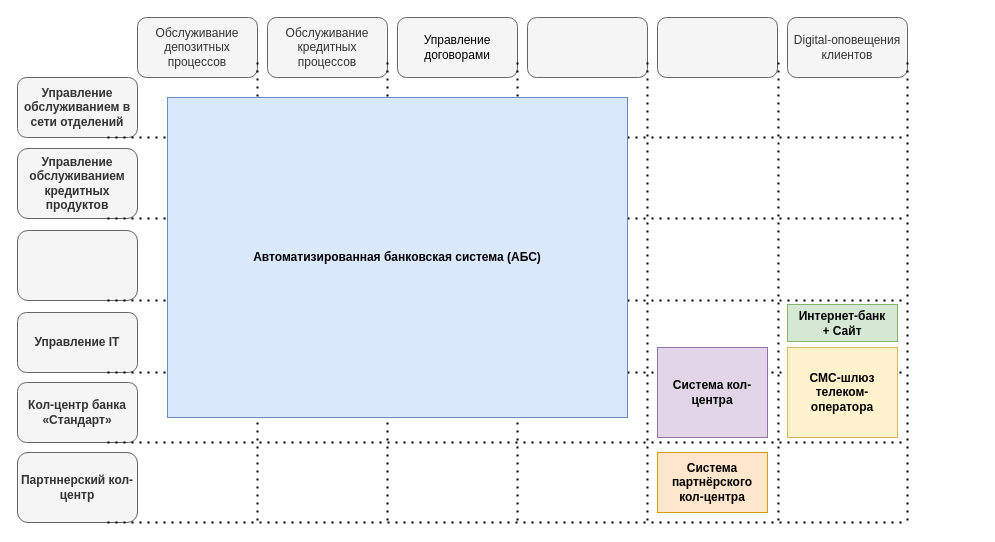
Image size: 995x542. Some labels were removed from this diagram. The shapes that lost their labels are listed below. From the top down, each one's box as (x1, y1, x2, y2) in pixels, then its label:
(526, 16, 648, 78): Продажи в сети отделений
(656, 16, 778, 78): Продажи через кол центр
(16, 230, 138, 300): Управление обслуживанием депозитных продуктов
